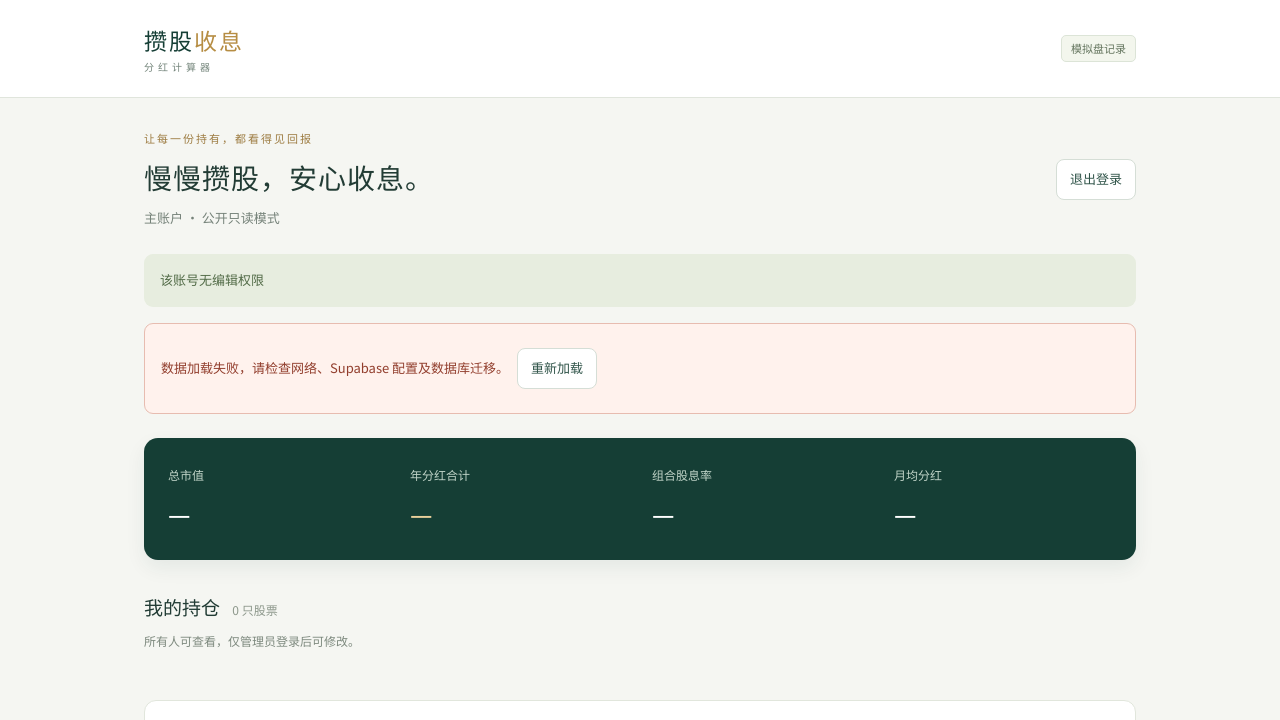
Test: 持仓加载中或首次读取失败时月表不可用，重新加载成功才显示测算金额
Expected: the message shows "数据加载失败", [161,358,509,377]
Click the button "重新加载".
click(557, 368)  # box [517,348,597,389]
(page scrolled)
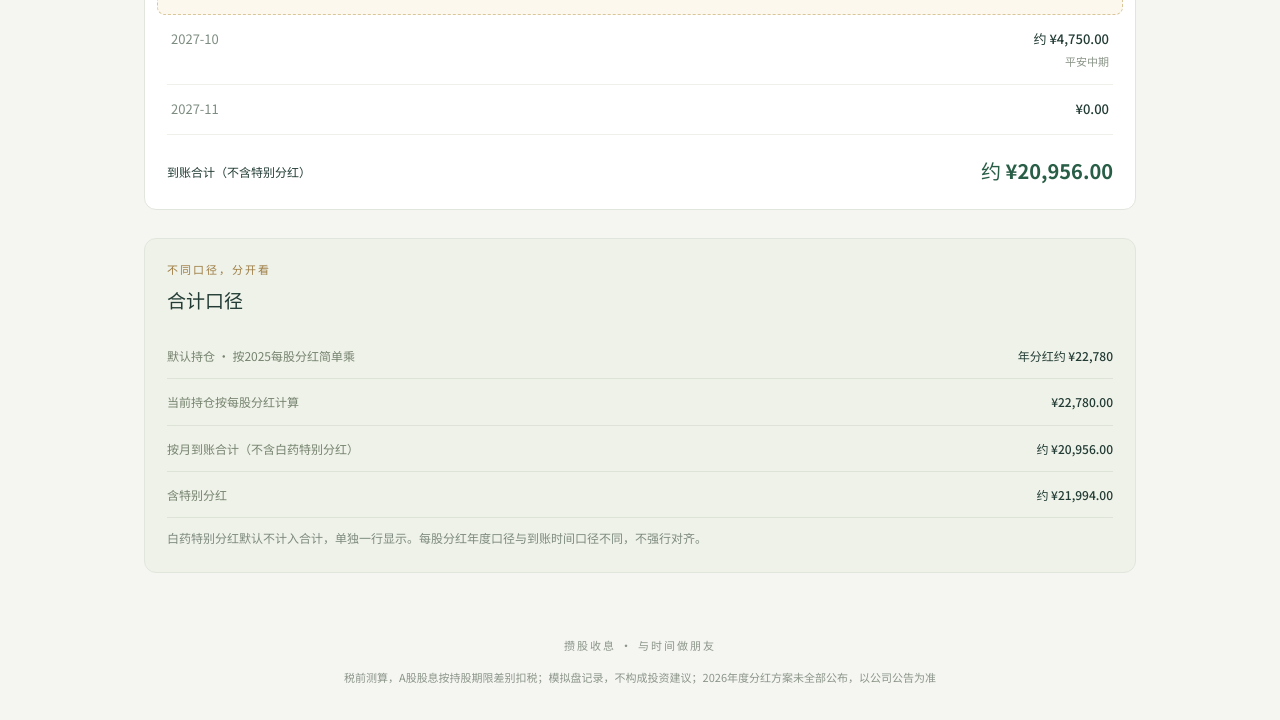
Expected: the text "约 ¥20,956.00" is shown 2 times, [981,155,1113,187]; [1036,438,1113,458]
Expected: the text "约 ¥21,994.00" is shown, [1036,485,1113,504]
